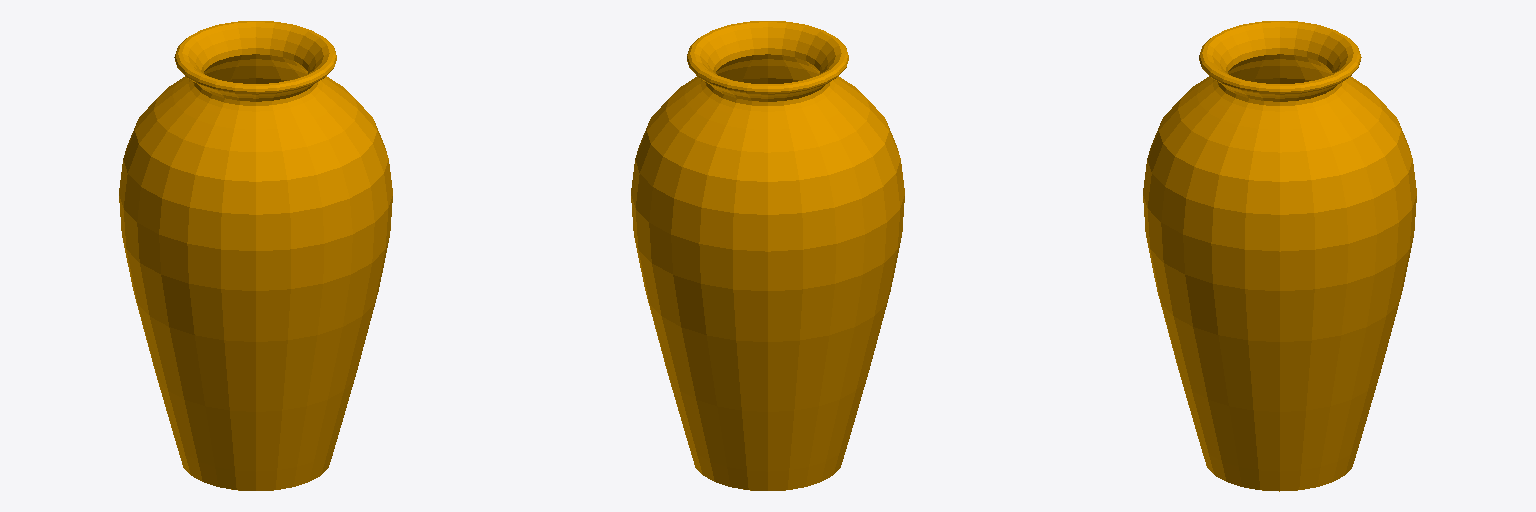
The robot description file, URDF, robot "none":
<robot name="none">
       <link name="none">
           <visual>
               <origin rpy="1.57 0 0" xyz="0 0 0" />
               <geometry>
                   <mesh filename="jar.obj" />
               </geometry>
           </visual>
          <collision>
              <geometry>
                  <box size="0.610952 1.000000 0.610952" />
              </geometry>
          </collision>

          <inertial>
            <mass value="0.0" />
            <inertia ixx="0.0" ixy="0.0" ixz="0.0" iyy="0.0" iyz="0.0" izz="0.0" />
          </inertial>
      </link>
  </robot>

--- What the picture shows (computed from the rendered views, not written in the file) ---
Views: 3 orthographic renders of the robot side by side, from view 1: azimuth 30°, elevation 25°; view 2: azimuth 150°, elevation 25°; view 3: azimuth 270°, elevation 25°.
Model none with 1 links and 0 joints (none), rooted at none, posed every joint at zero.
Links seen in each view (by area): view 1: none; view 2: none; view 3: none.
Link boxes in pixels (x1=…): none: x1=119, y1=21, x2=392, y2=490; none: x1=631, y1=21, x2=904, y2=490; none: x1=1143, y1=21, x2=1416, y2=491.
Bounding box of the posed robot: 0.611 × 0.611 × 1 m (x, y, z).
Meshes: 1 distinct files referenced, 1 mesh visuals loaded (1 OBJ).